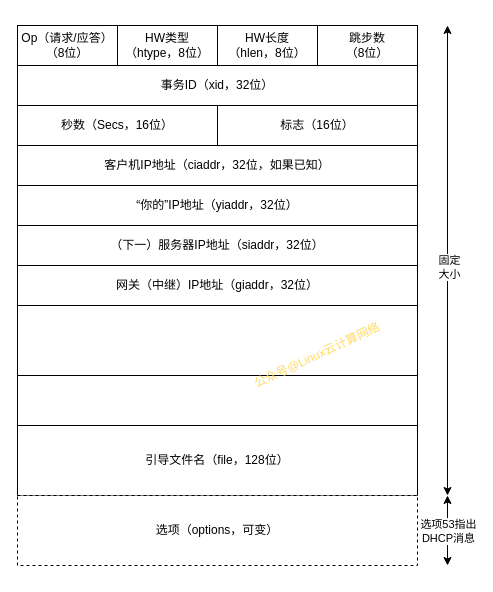
Image size: 493x592. Some labels were removed from this diagram. Here are the shapes that lost their labels. From the top down, the box of each, then its label:
(16, 304, 418, 376): 客户机硬件地址（chaddr，128位）
(16, 374, 418, 426): 服务器名（sname，64位）
